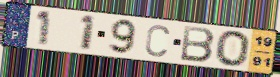1: (79, 14, 96, 53), (35, 10, 53, 46)
9: (107, 18, 138, 55)
B: (178, 25, 216, 65)
C: (144, 23, 172, 59)
O: (214, 29, 252, 68)
